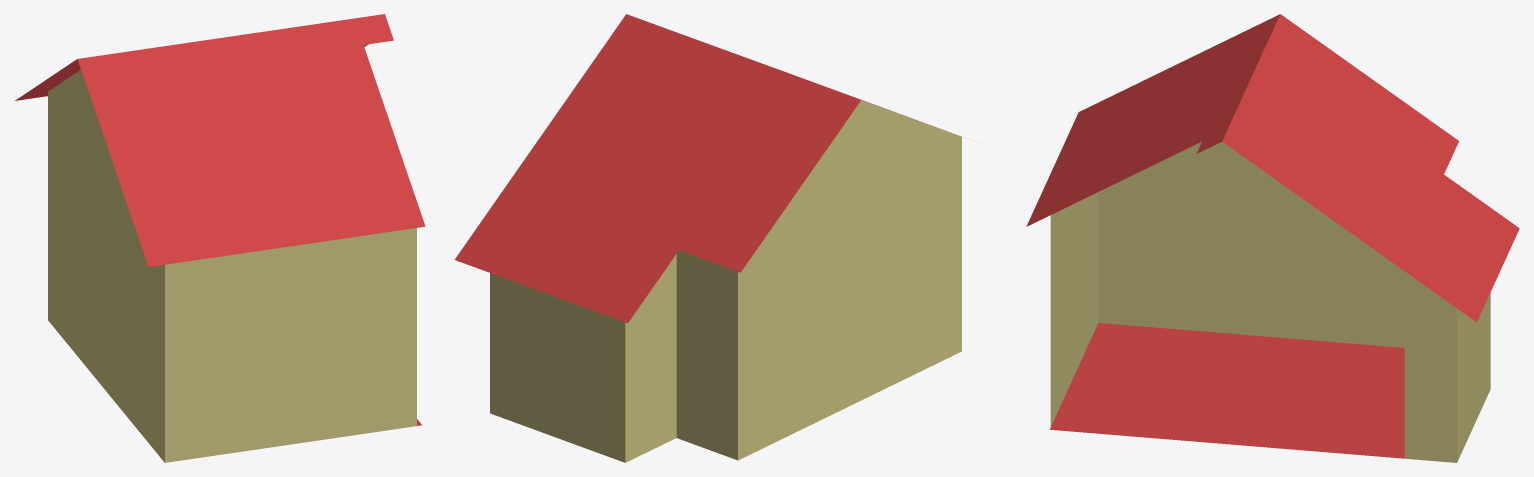
The picture shows the model from 3 angles, left to right: view 1: azimuth 30°, elevation 25°; view 2: azimuth 150°, elevation 25°; view 3: azimuth 270°, elevation 25°; orthographic projection. The views are drawn at different scales.
Bounding box in the file's own units: 11.71 × 14.82 × 10.37.
